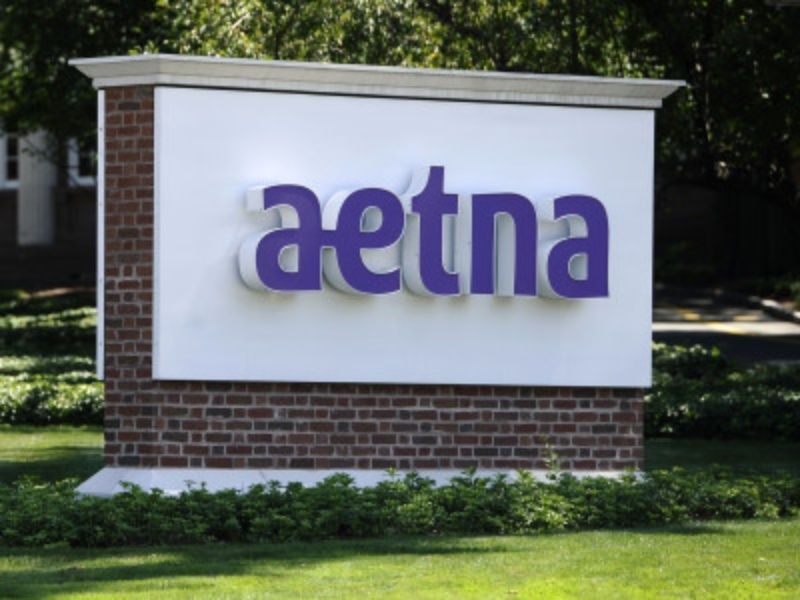text: (257, 153, 272, 299), (273, 153, 288, 299), (289, 153, 304, 299), (305, 153, 320, 299), (321, 153, 336, 299), (337, 153, 352, 299), (353, 153, 368, 299), (369, 153, 384, 299), (385, 153, 400, 299), (401, 153, 416, 299), (417, 153, 432, 299), (433, 153, 448, 299), (449, 153, 464, 299), (465, 153, 480, 299), (481, 153, 496, 299), (497, 153, 512, 299), (513, 153, 528, 299), (529, 153, 544, 299), (545, 153, 560, 299), (561, 153, 576, 299), (577, 153, 592, 299), (593, 153, 608, 299), (245, 153, 256, 299), (609, 153, 611, 299)
